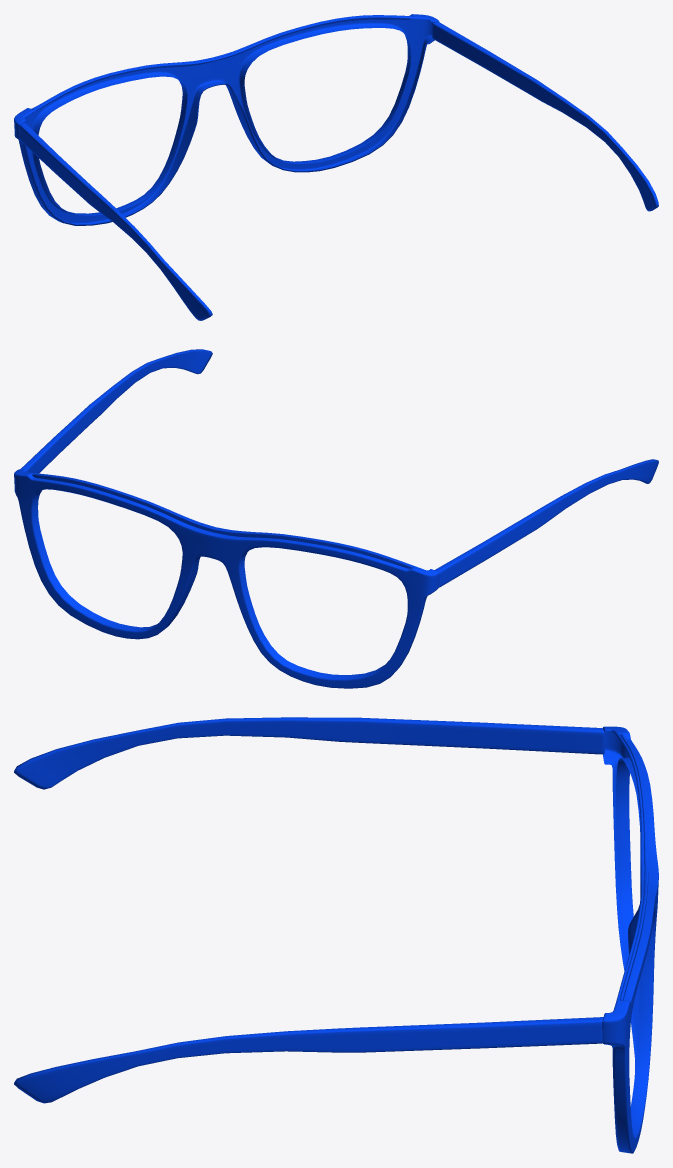
Rendered from sunglass_medium_blue.fbx.
The picture shows the model from 3 angles, top to bottom: view 1: azimuth 30°, elevation 25°; view 2: azimuth 150°, elevation 25°; view 3: azimuth 270°, elevation 25°; orthographic projection. The views are drawn at different scales.
Visible parts, largest first — view 1: am_body.001; view 2: am_body.001; view 3: am_body.001.
Part boxes in pixels (bbox=[...]): am_body.001: bbox=[14, 14, 658, 320]; am_body.001: bbox=[14, 349, 658, 688]; am_body.001: bbox=[14, 717, 658, 1153].
Bounding box in the file's own units: 16.26 × 4.9 × 13.72.
